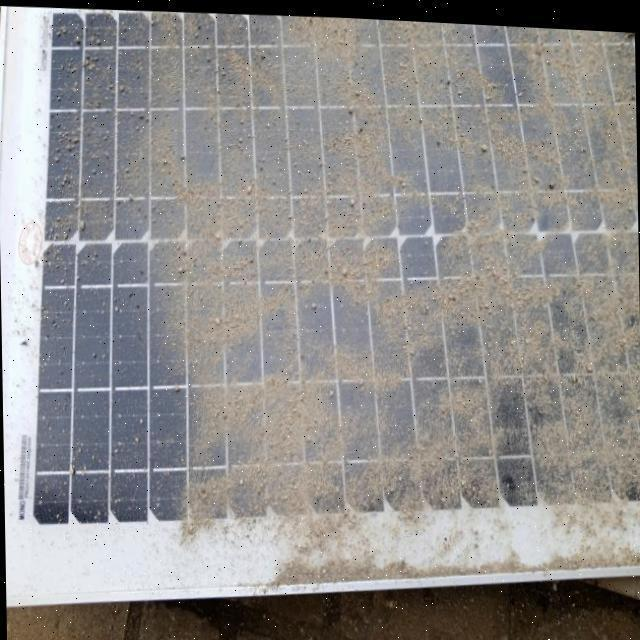Surface Contaminant: (24, 6, 640, 530)
